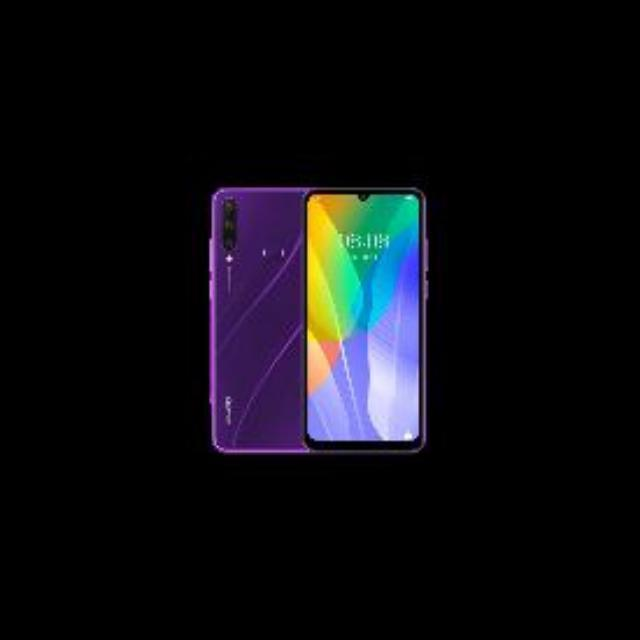phone: (202, 193, 429, 456)
